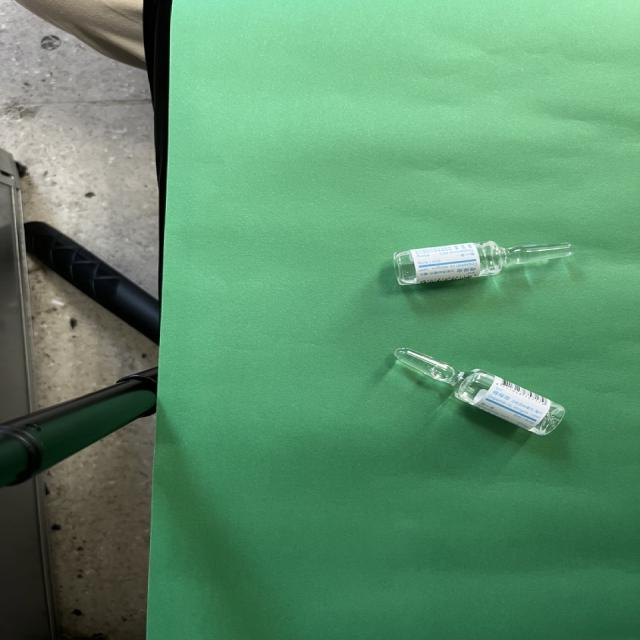Ampoules: (395, 348, 564, 435), (393, 241, 577, 286)
